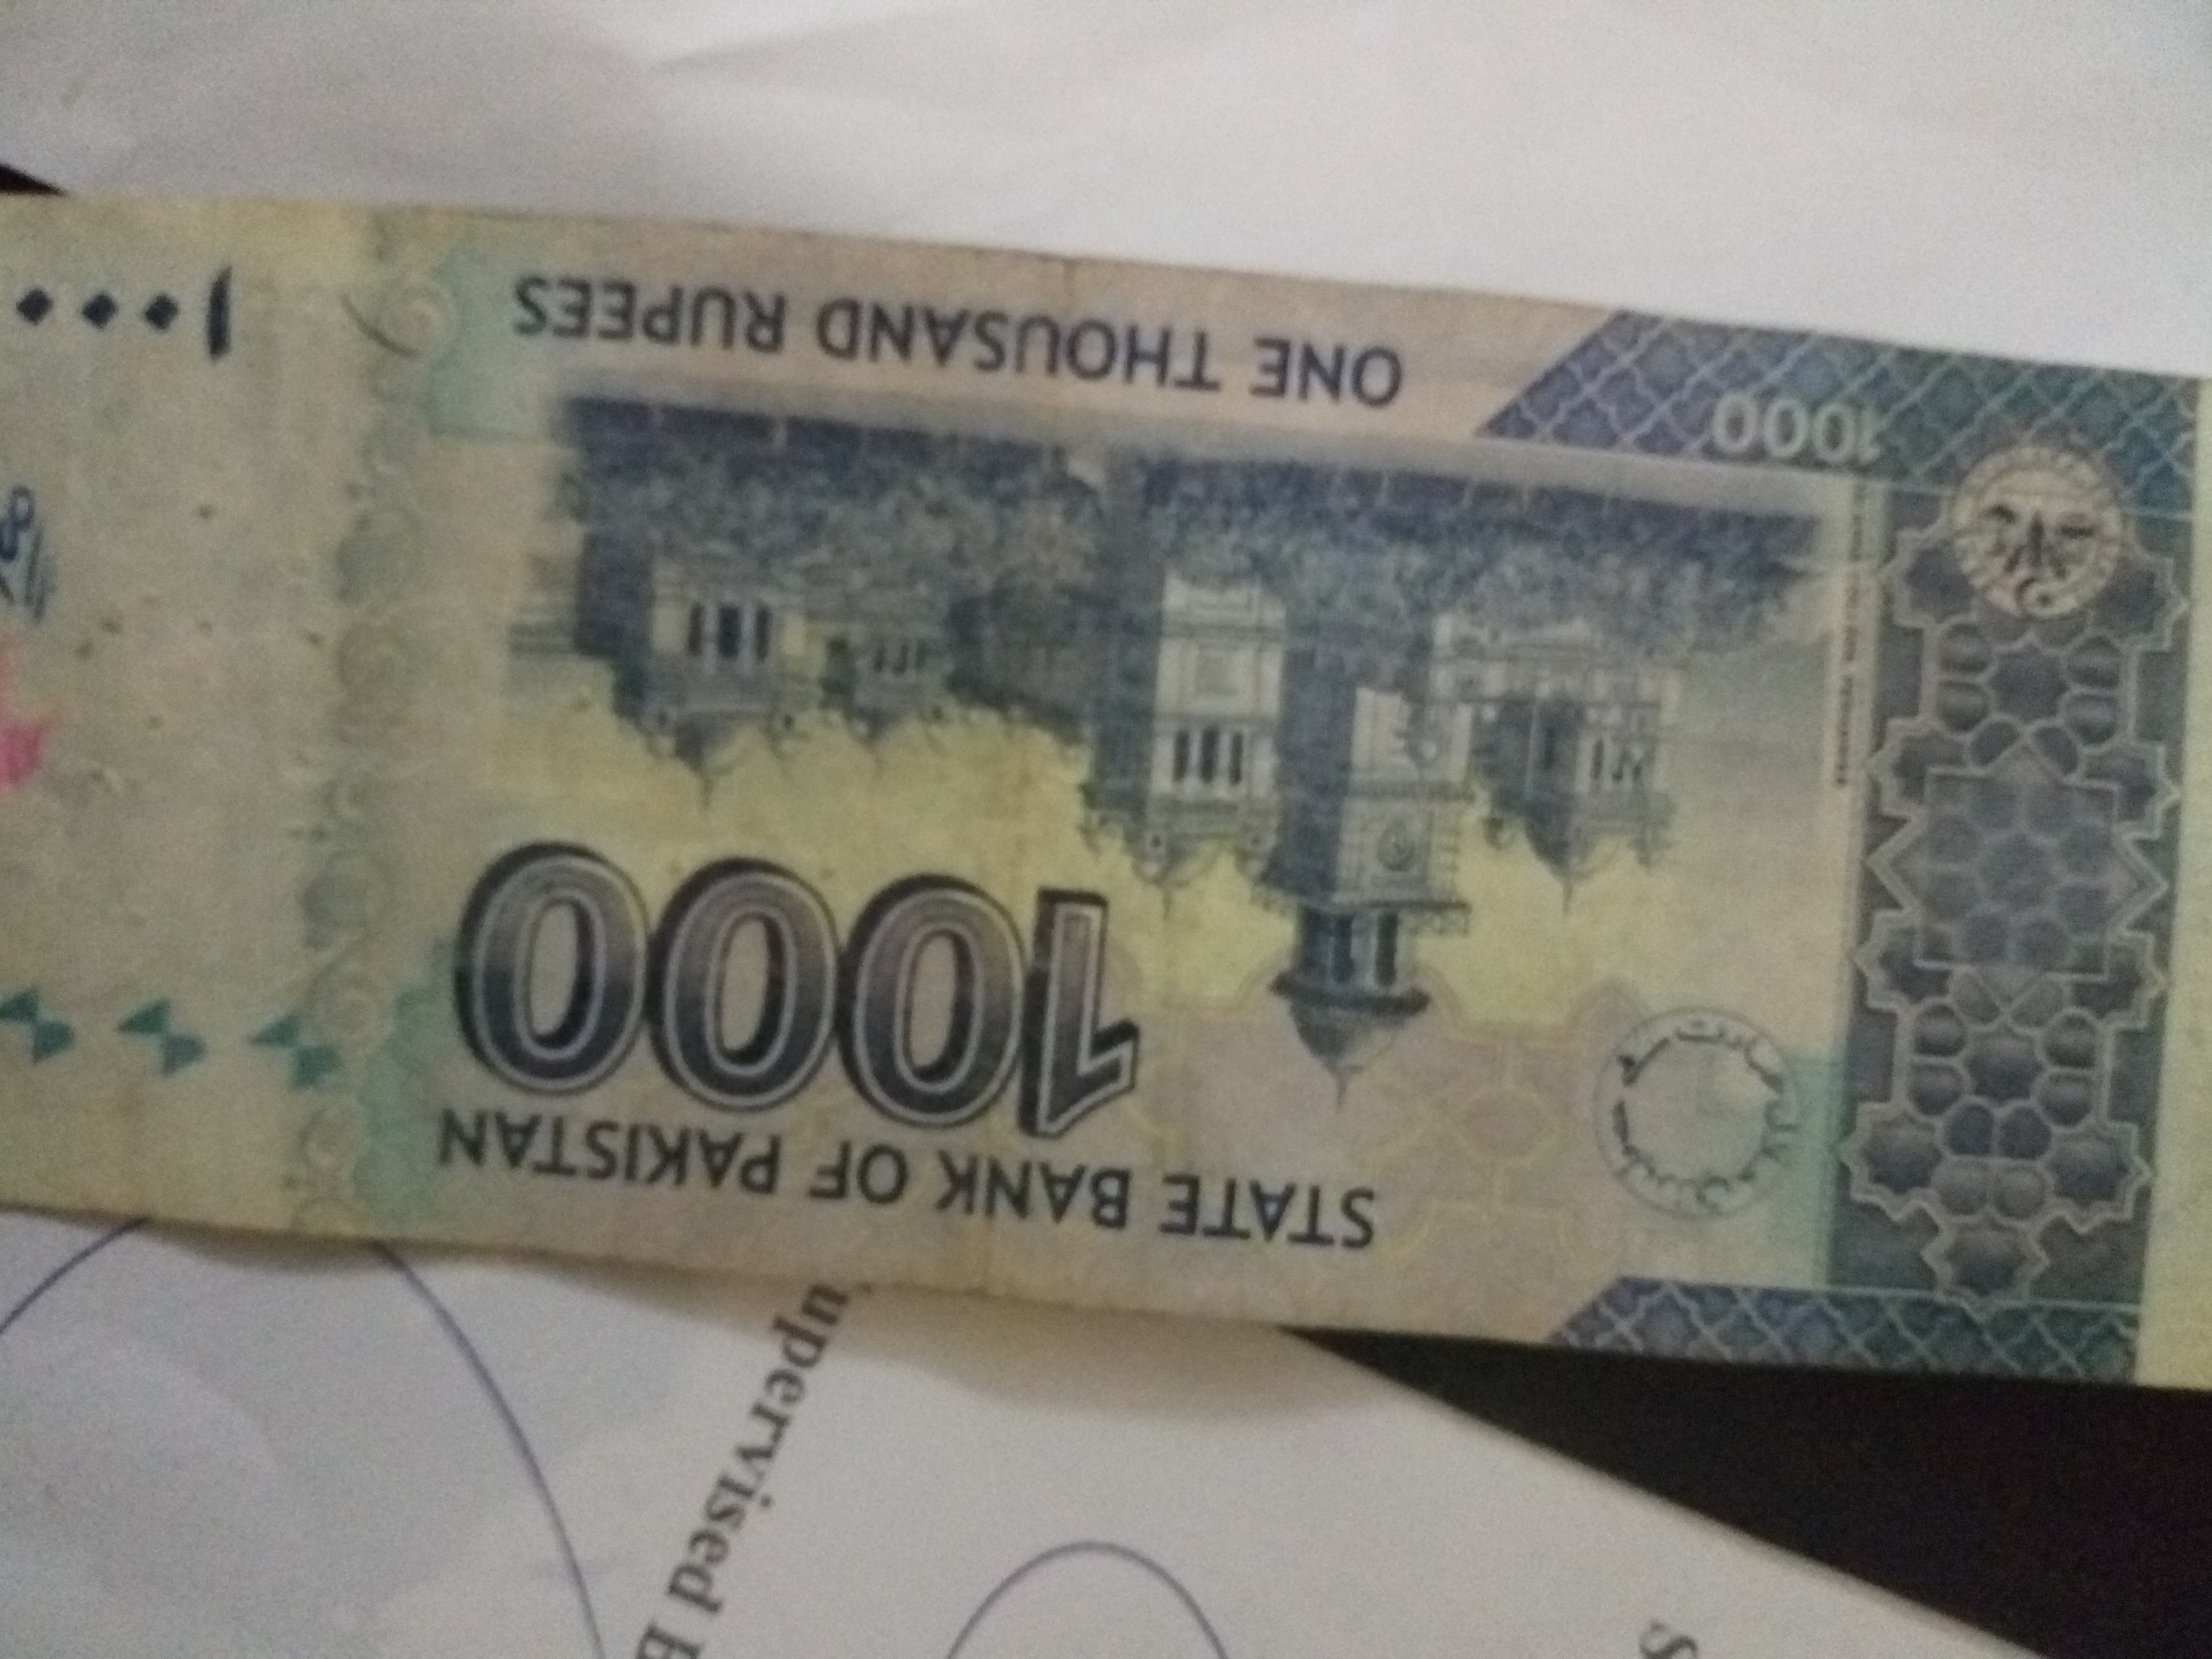1000 rupee: (9, 179, 2210, 1429)
